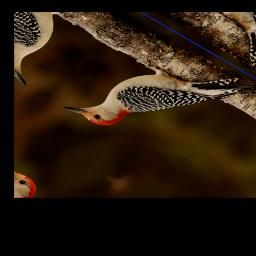Woodpecker: (63, 26, 256, 170)
